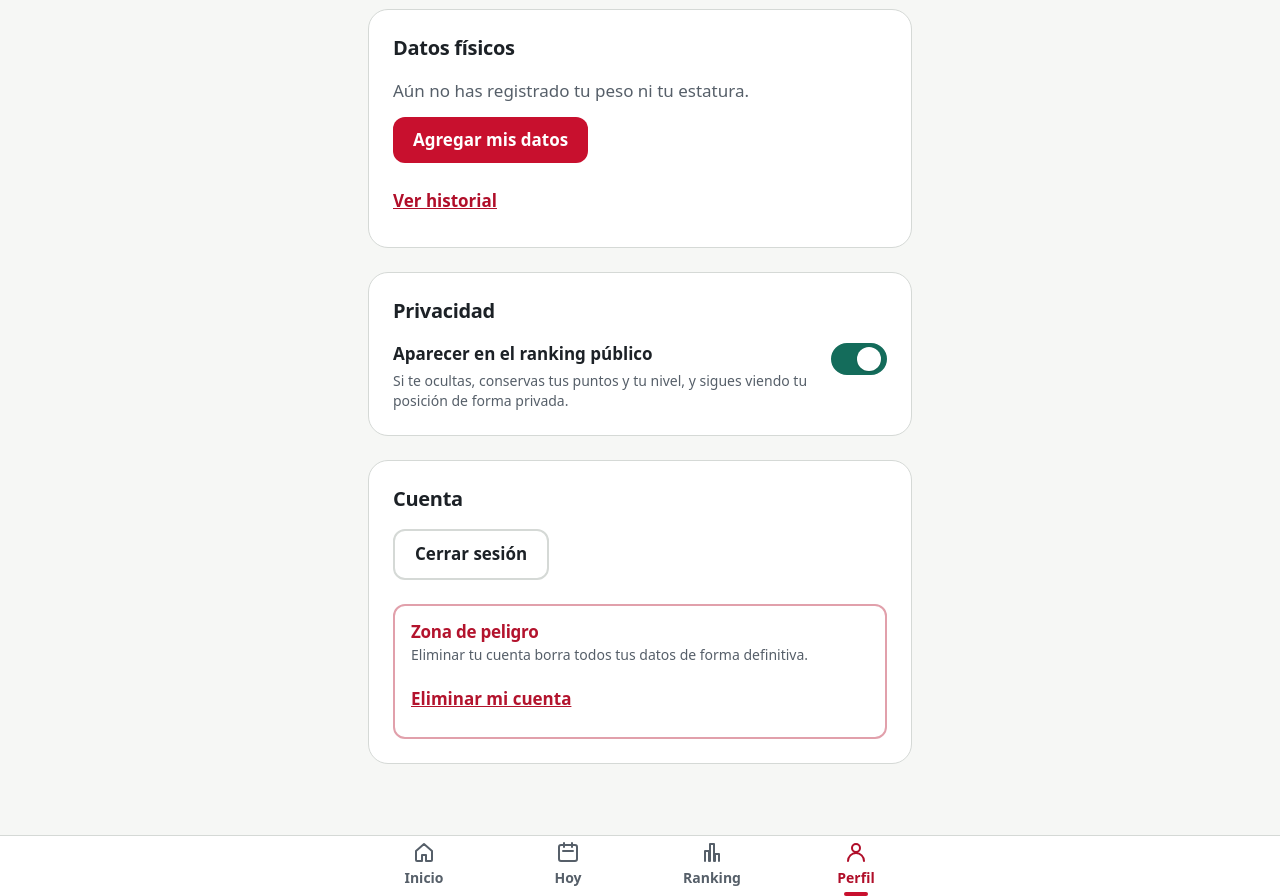
Scenario: HU 3 — eliminar cuenta y cerrar sesión › cerrar sesión con 401 (ya estaba cerrada) limpia el estado y lleva a la bienvenida
(page scrolled)
Click the button "Cerrar sesión" at (471,555), box [393,530,549,580]
(page scrolled)
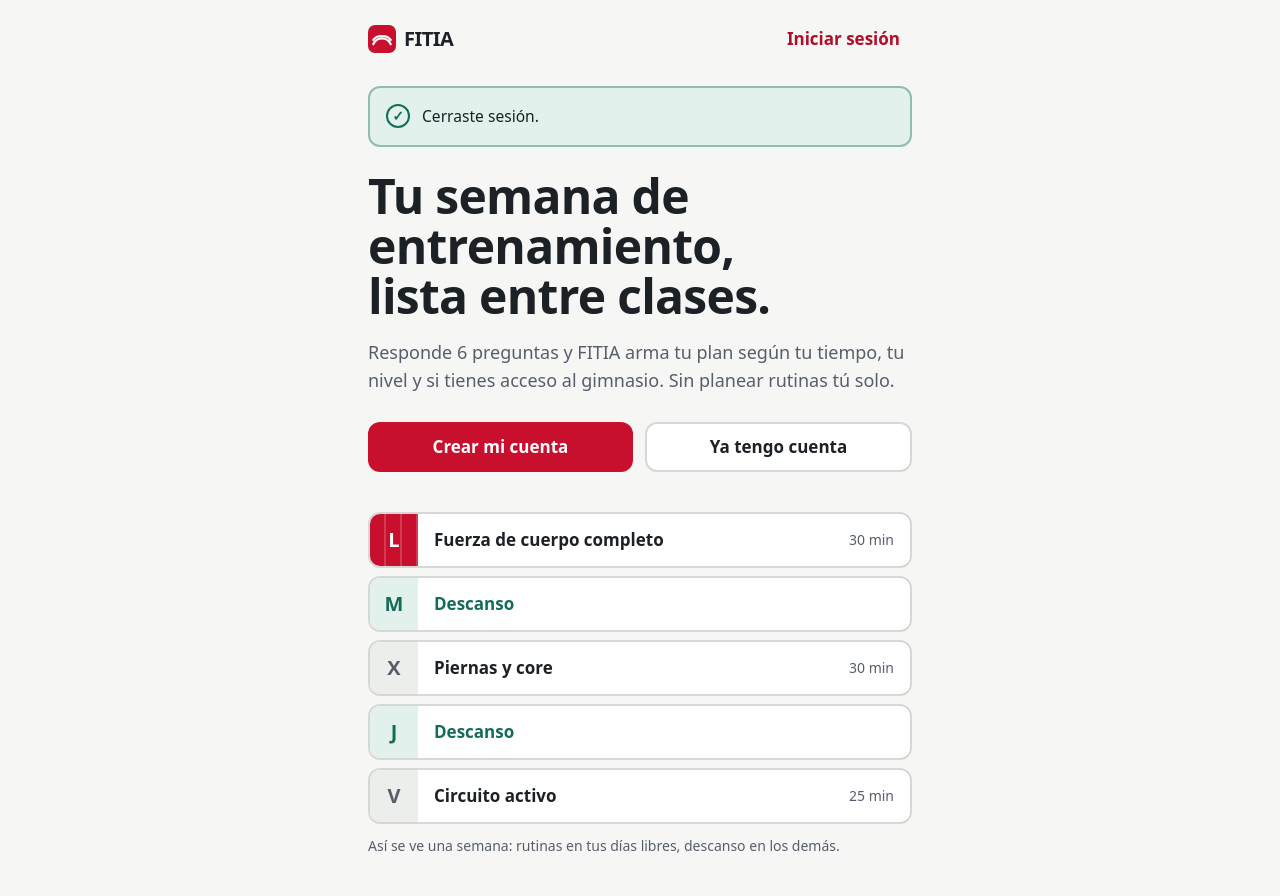
Expected: the text "Cerraste sesión." is shown, [422,105,539,127]
